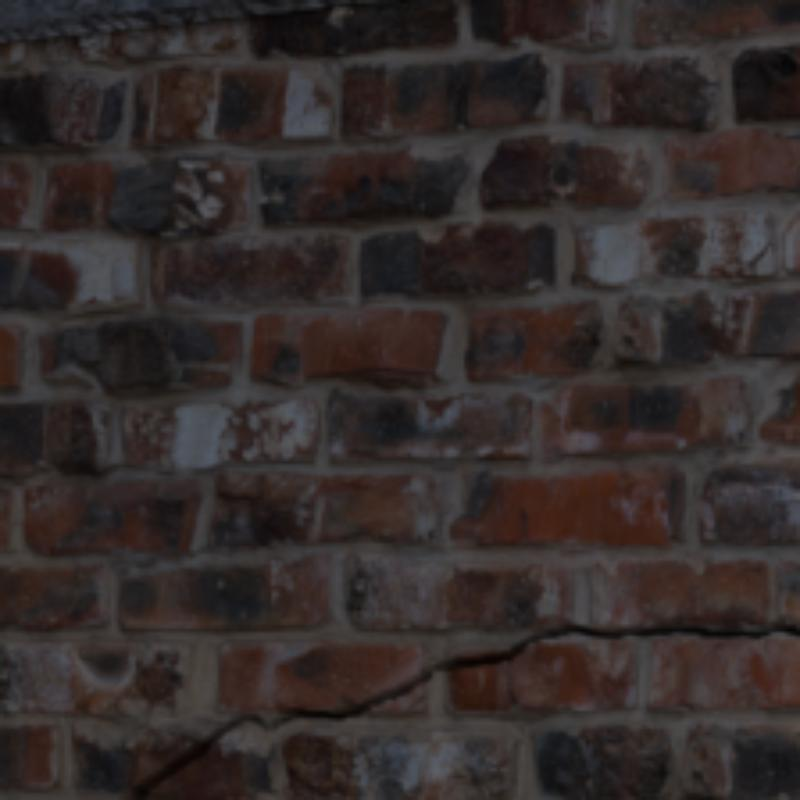crack: (121, 618, 796, 796), (743, 239, 771, 271)
